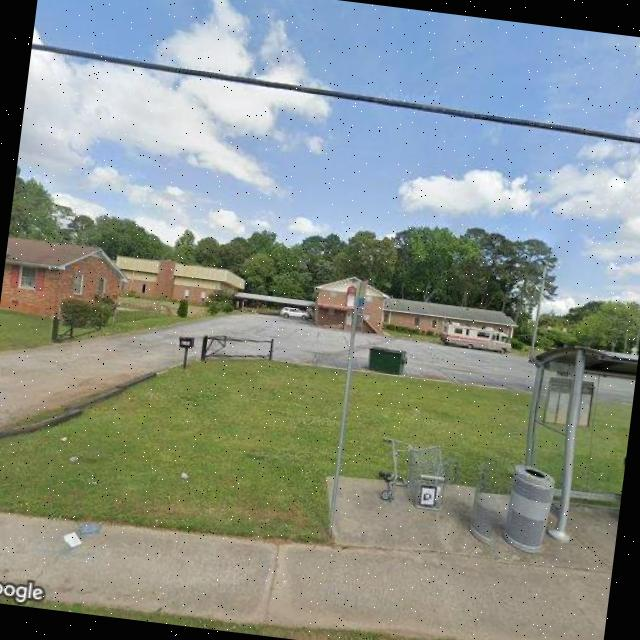shelter: (508, 340, 638, 552)
trash_can: (501, 462, 556, 556)
